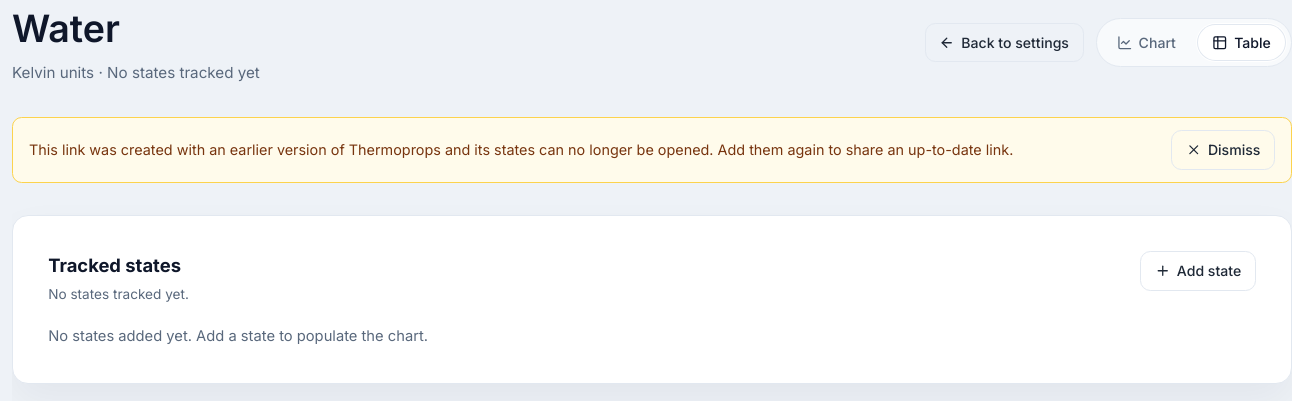
Test: WorkspaceView › legacy links › can be dismissed
The width and height of the screenshot is (1292, 401).
Click the button "Dismiss".
click(1223, 150)  # box [1171,130,1275,170]
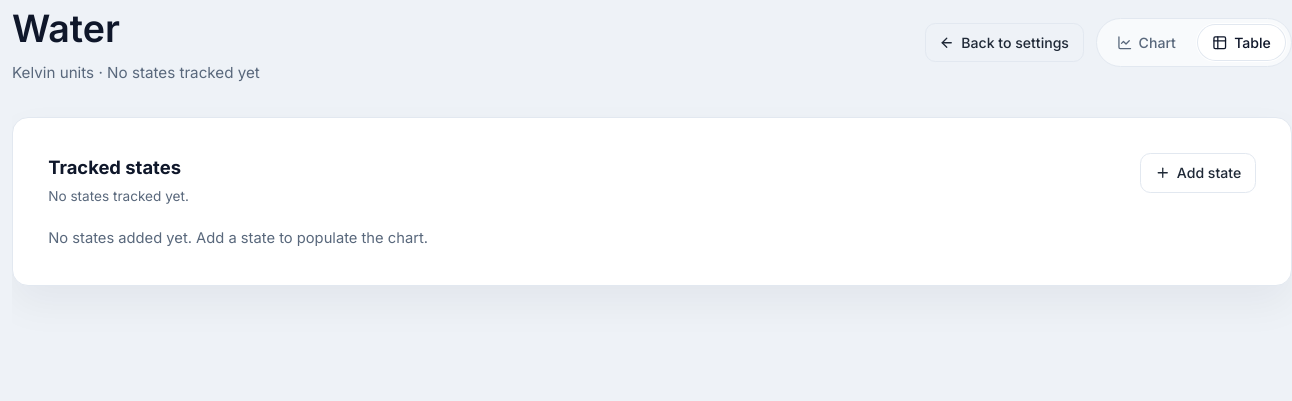
Now the message "This link was created with an earlier version of Thermoprops and its states can" is gone
